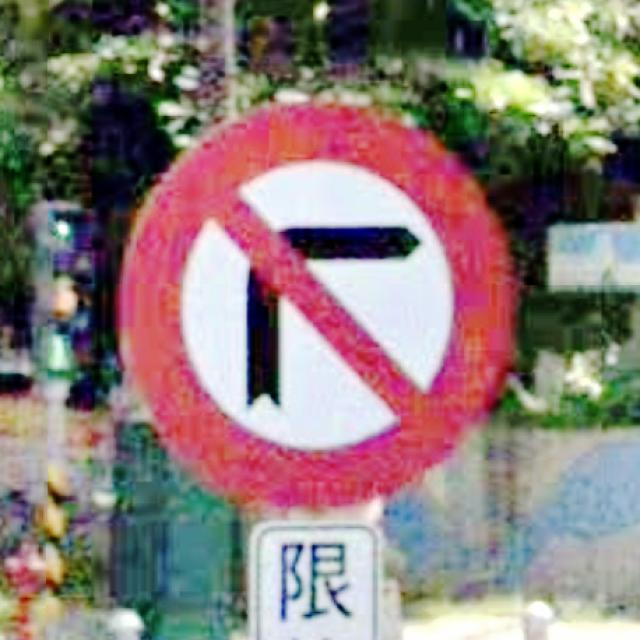noturnright: (119, 103, 514, 509)
